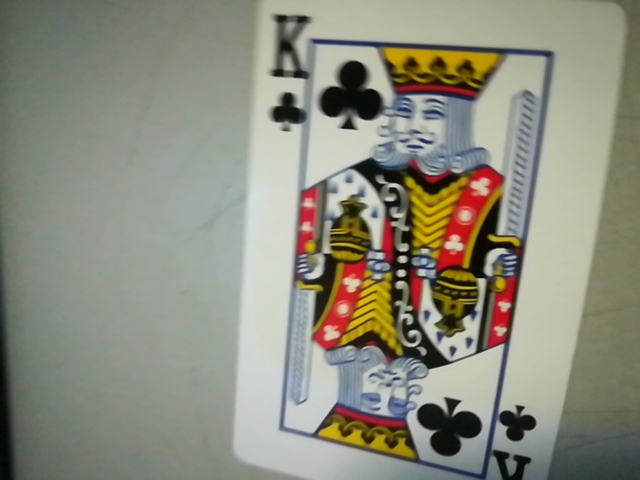mh k: (483, 401, 548, 480)
